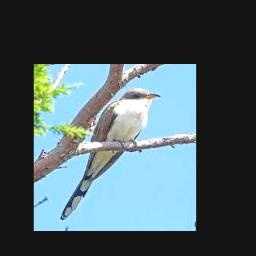Cuckoo: (60, 88, 159, 220)
